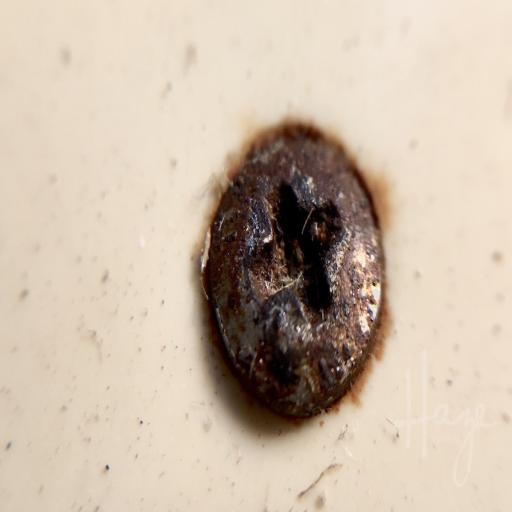Phillips: (199, 116, 385, 427)
